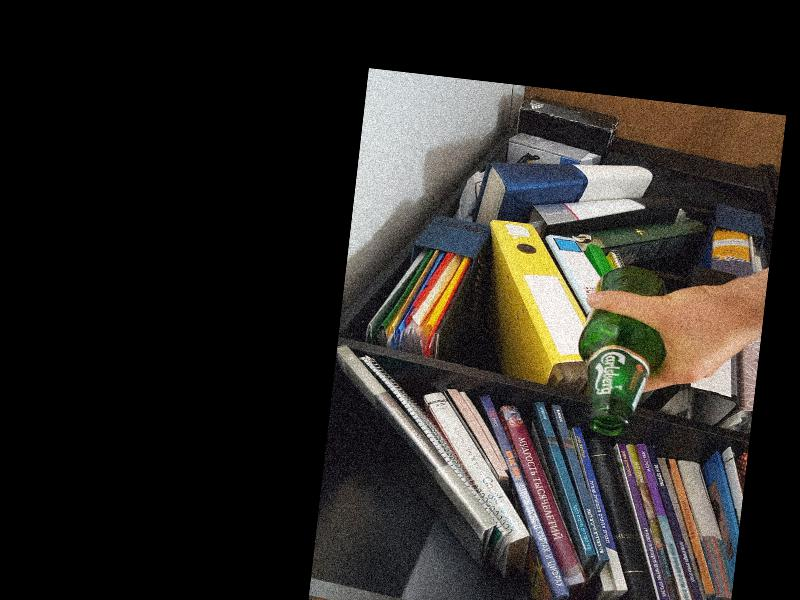Beer: (570, 260, 672, 440)
